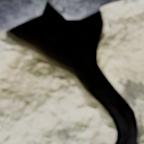broken_brick: (0, 0, 45, 31), (50, 0, 125, 17)
crack: (2, 0, 142, 143)
